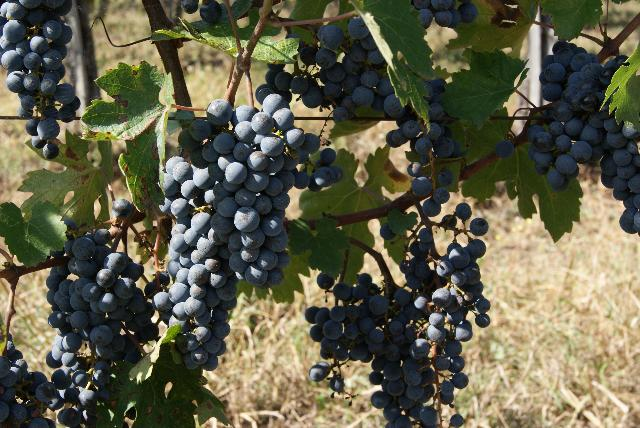grapes: (268, 18, 460, 160), (179, 99, 320, 289), (40, 229, 159, 428), (526, 40, 640, 234), (305, 272, 439, 428), (154, 158, 236, 370), (406, 228, 490, 404), (0, 0, 80, 159), (0, 341, 56, 428)
